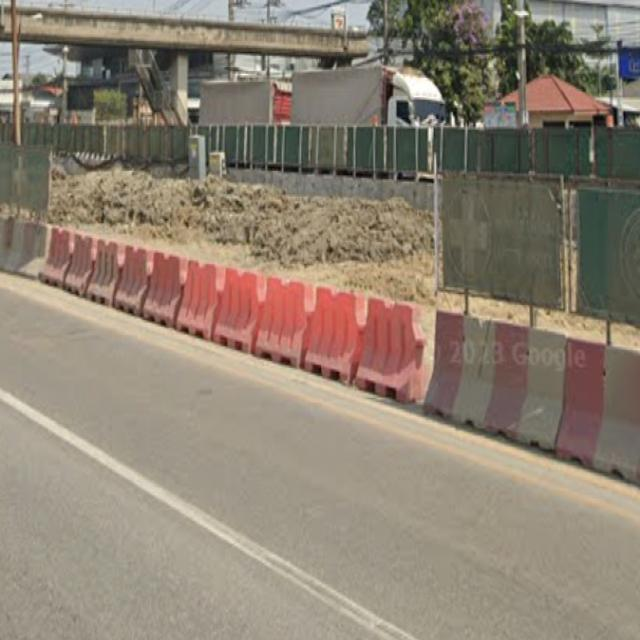fallen_object: (423, 290, 640, 507), (300, 269, 438, 411), (202, 256, 326, 363), (140, 242, 235, 340), (0, 206, 93, 295), (77, 226, 168, 313)
